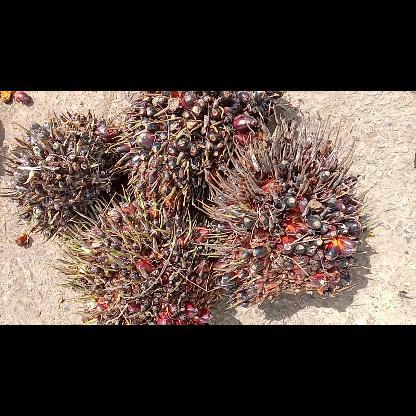TBS abnormal: (214, 122, 372, 302), (118, 92, 286, 206), (73, 196, 221, 324), (14, 114, 124, 224)
